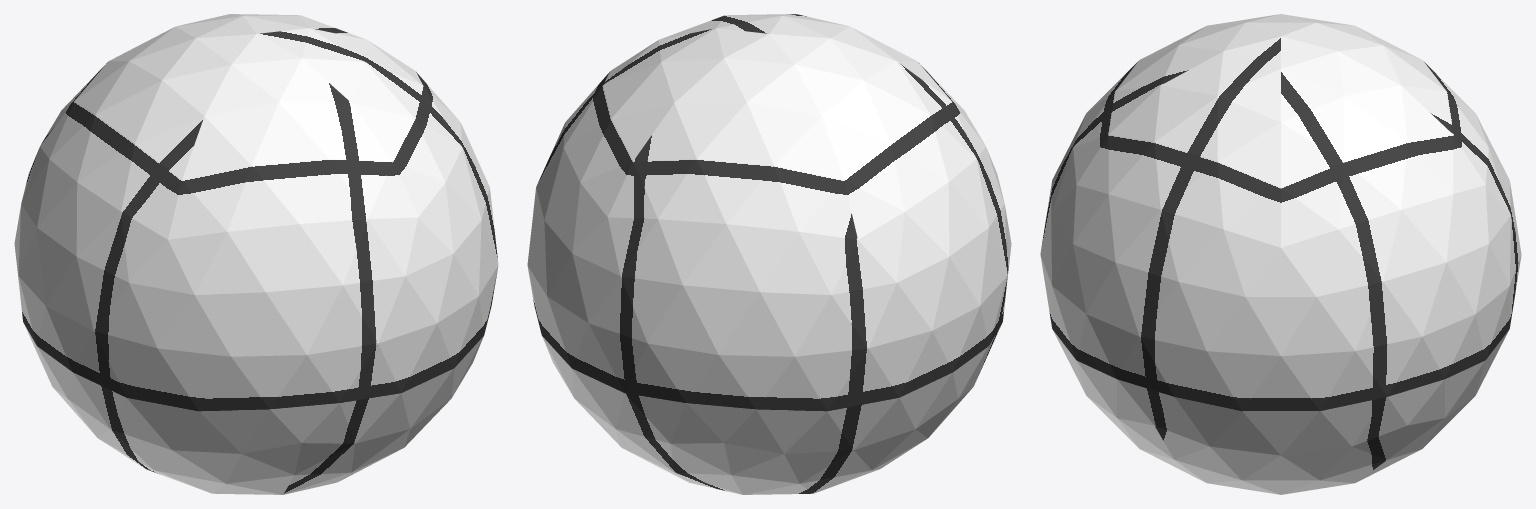
File: LightSphere.obj
3 renders of one model, left to right at view 1: azimuth 30°, elevation 25°; view 2: azimuth 150°, elevation 25°; view 3: azimuth 270°, elevation 25°, orthographic.
Size of the model in its own units: 2 by 2 by 2.
Materials: 1 (1 with a texture image).
